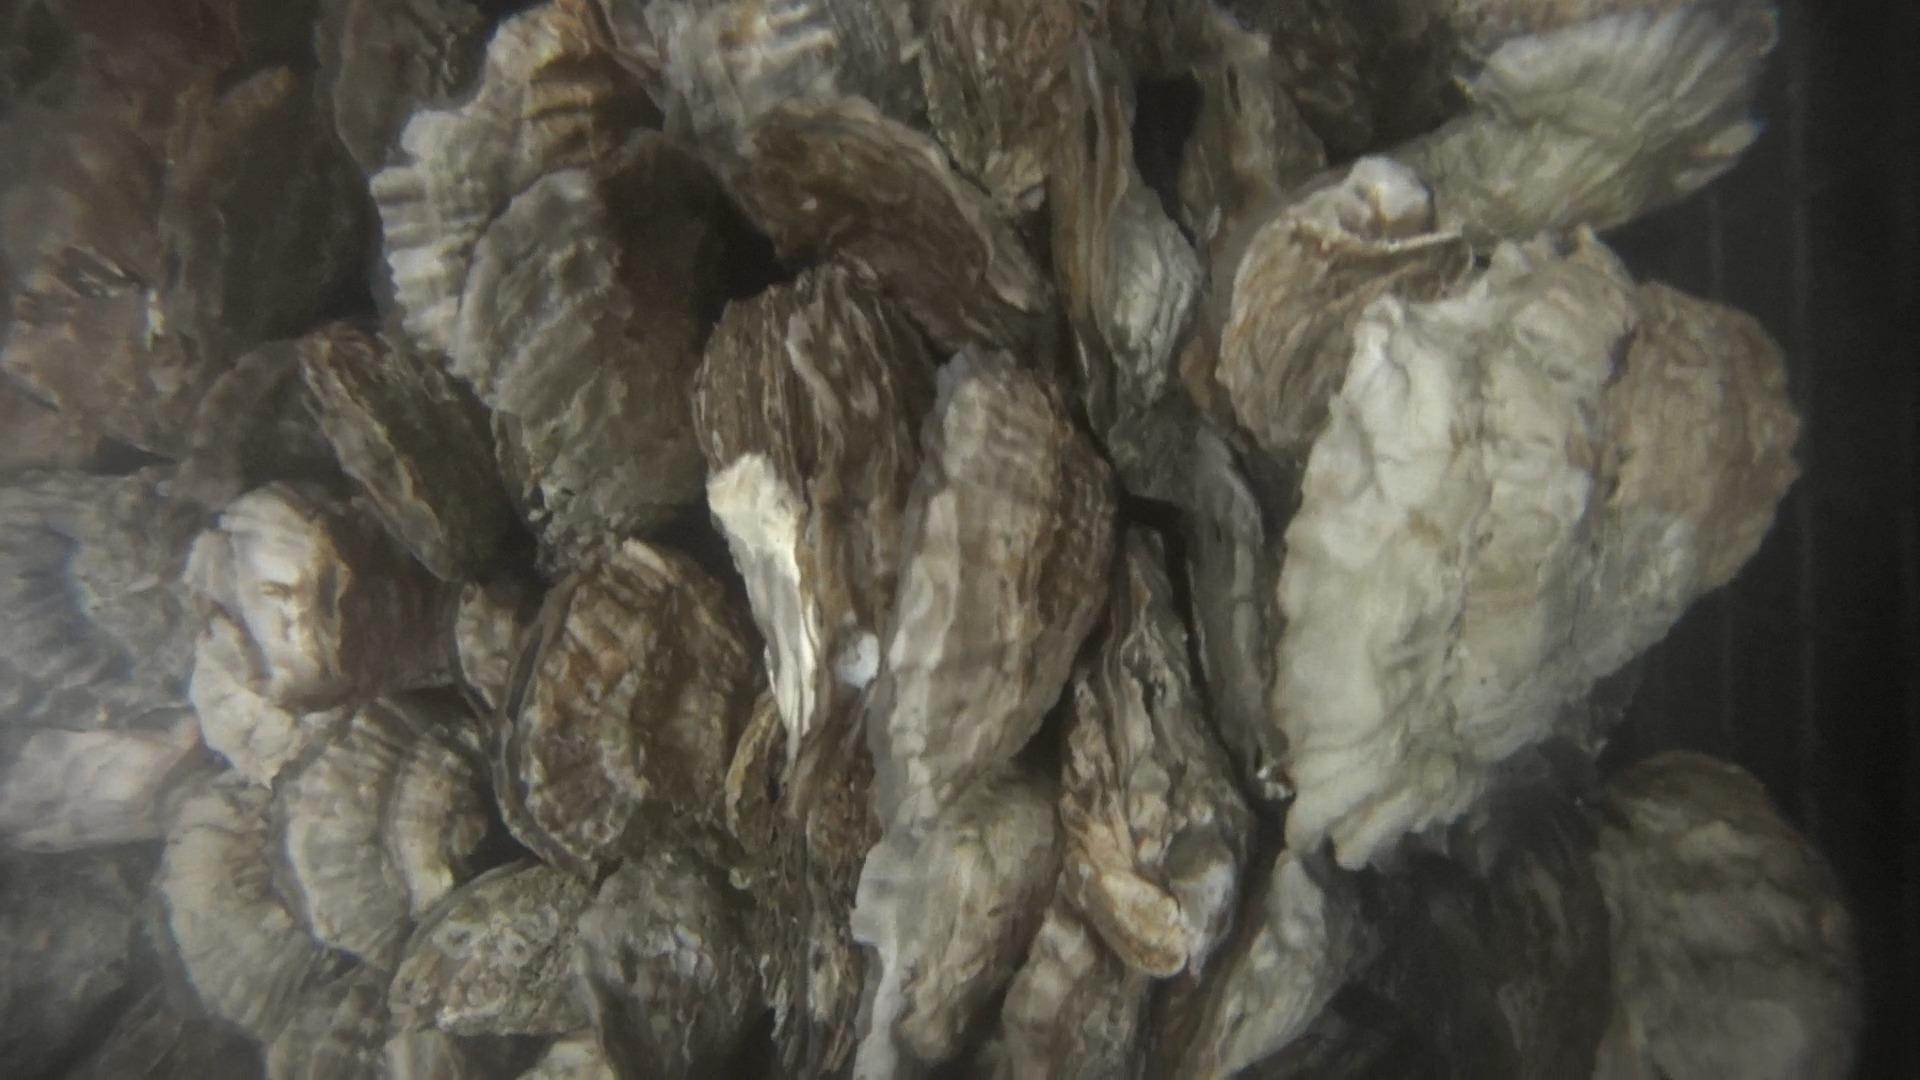3: (870, 344, 1112, 837), (495, 541, 760, 873), (1065, 524, 1246, 976), (713, 104, 1031, 313), (286, 682, 492, 959), (1050, 42, 1135, 421)
Oyster- Indeterminate: (1274, 255, 1805, 873), (455, 145, 779, 541), (1577, 748, 1865, 1080), (1215, 157, 1491, 485), (182, 483, 462, 716), (862, 781, 1054, 1080), (997, 905, 1149, 1080)
Oyster-Closed: (694, 264, 895, 764), (295, 320, 512, 592), (1192, 436, 1295, 819)
